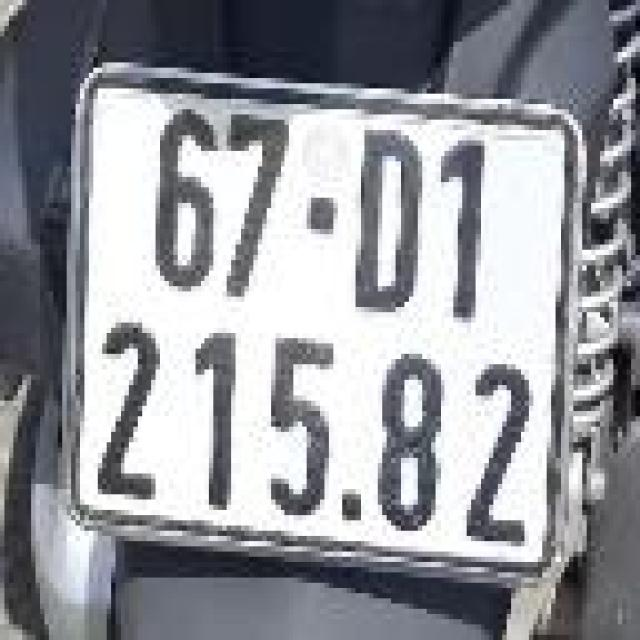1: (438, 130, 500, 328), (182, 320, 240, 523)
2: (464, 349, 549, 572), (89, 307, 160, 510)
5: (256, 312, 336, 541)
6: (142, 107, 222, 304)
7: (222, 114, 294, 302)
8: (371, 338, 442, 541)
D: (340, 110, 429, 318)
